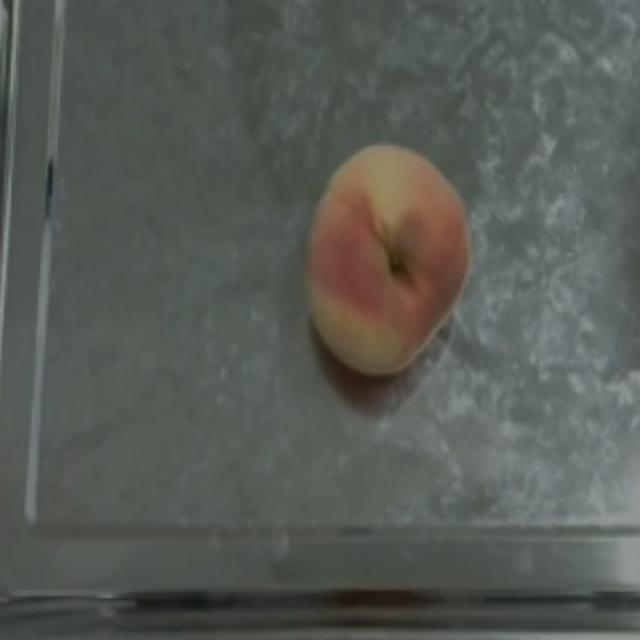Fruit: (291, 125, 484, 386)
